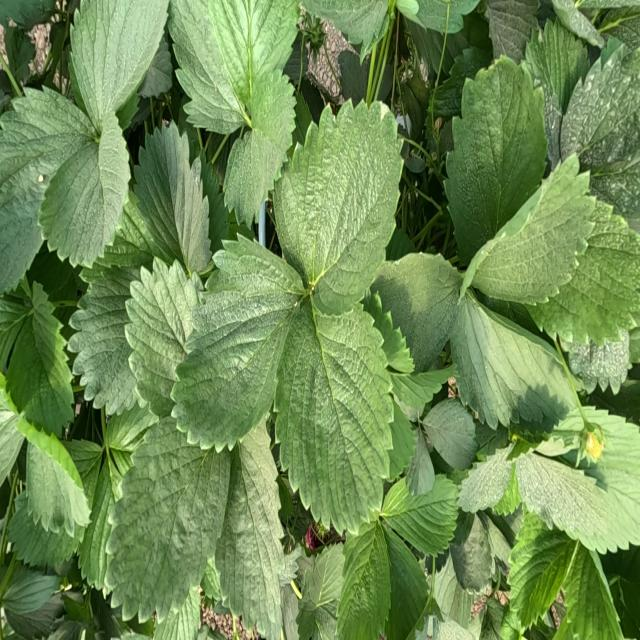Leaves: (171, 241, 307, 449), (275, 301, 393, 530), (276, 101, 402, 315), (106, 416, 230, 619), (446, 60, 547, 264), (461, 158, 596, 304), (0, 89, 90, 289), (450, 291, 575, 431), (516, 413, 640, 553), (559, 46, 640, 232), (216, 421, 284, 636), (540, 203, 640, 344), (40, 111, 130, 266), (71, 0, 168, 127), (223, 69, 295, 226), (125, 260, 202, 405), (207, 0, 299, 118), (139, 122, 210, 272), (371, 254, 461, 370), (6, 282, 73, 437), (170, 0, 245, 134), (525, 17, 590, 160), (69, 279, 136, 415), (505, 526, 575, 631), (9, 487, 87, 570), (337, 520, 390, 639), (380, 475, 458, 555), (558, 544, 623, 639), (26, 440, 89, 537), (2, 564, 63, 639), (79, 458, 114, 588), (423, 398, 478, 470), (458, 448, 512, 511), (486, 0, 539, 61), (450, 516, 492, 591), (0, 284, 34, 360), (65, 440, 102, 509), (154, 588, 200, 639)
Strawberries: (585, 432, 603, 461)
